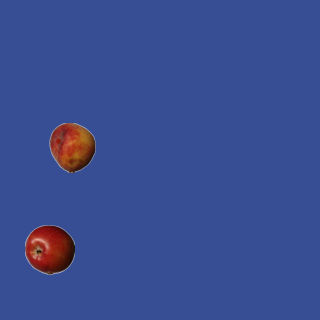Apple Braeburn: (24, 224, 74, 274)
Peach: (47, 122, 97, 172)
